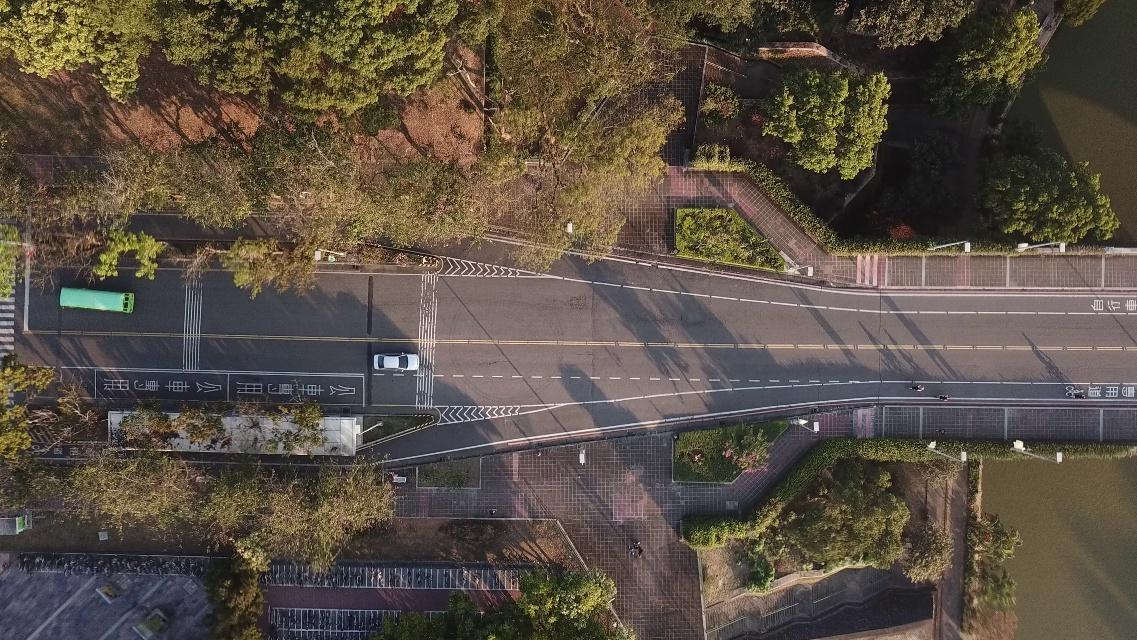Bus: (58, 286, 133, 312)
Car: (373, 351, 418, 371)
